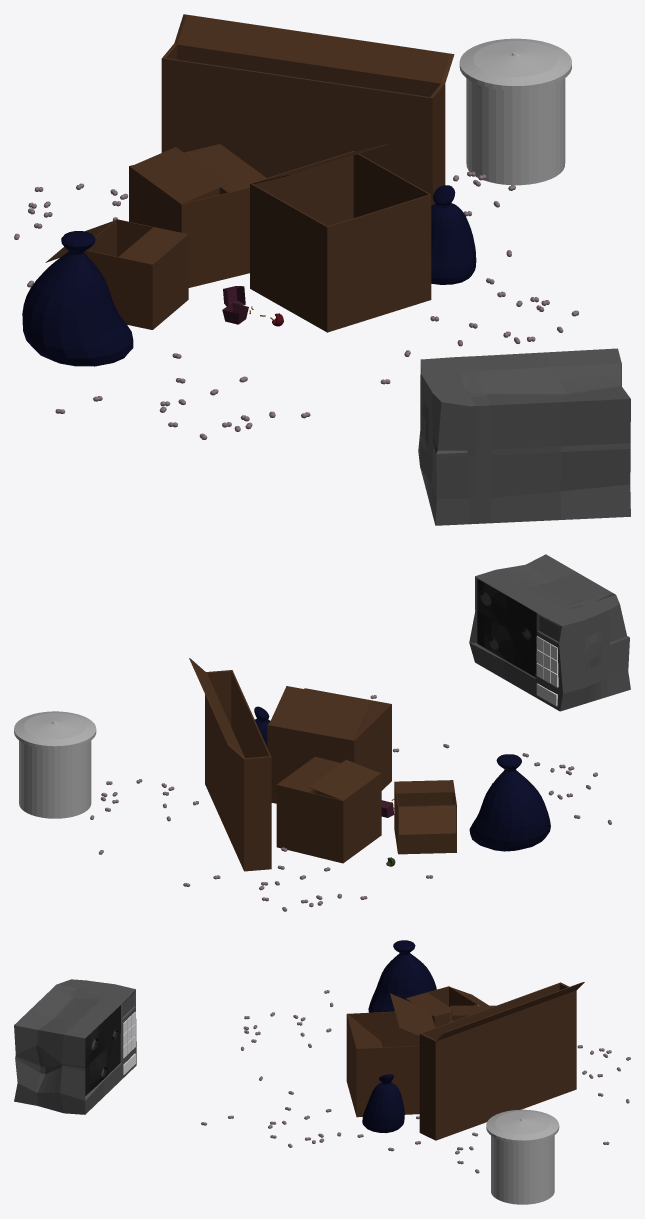
Rendered from Lixoa.fbx.
3 renders of one model, top to bottom at view 1: azimuth 30°, elevation 25°; view 2: azimuth 150°, elevation 25°; view 3: azimuth 270°, elevation 25°, orthographic. The views are drawn at different scales.
Parts seen in each view (by area): view 1: Cube.005, Cube.009, Cube.002, Cylinder, Cube, Cube.008, Cube.001, Cube.006, Plane.005; view 2: Cube.009, Cube.005, Cube, Cube.002, Cylinder, Cube.008, Cube.001, Plane.006; view 3: Cube.005, Cube.009, Cube.002, Cylinder, Cube.008, Plane.006, Cube.006, Cube.001, Cube.
Part boxes in pixels (bbox=[...]): Cube.005: bbox=[161, 14, 454, 205]; Cube.009: bbox=[418, 348, 630, 525]; Cube.002: bbox=[250, 143, 431, 332]; Cylinder: bbox=[459, 38, 571, 185]; Cube: bbox=[129, 144, 266, 287]; Cube.008: bbox=[22, 231, 133, 366]; Cube.001: bbox=[45, 219, 188, 329]; Cube.006: bbox=[431, 185, 476, 284]; Plane.005: bbox=[55, 353, 390, 439]; Cube.009: bbox=[469, 554, 630, 711]; Cube.005: bbox=[189, 658, 271, 871]; Cube: bbox=[276, 756, 381, 863]; Cube.002: bbox=[267, 686, 391, 803]; Cylinder: bbox=[14, 711, 96, 818]; Cube.008: bbox=[469, 754, 550, 851]; Cube.001: bbox=[394, 780, 456, 854]; Plane.006: bbox=[477, 578, 536, 677]; Cube.005: bbox=[419, 982, 584, 1140]; Cube.009: bbox=[14, 979, 136, 1114]; Cube.002: bbox=[346, 993, 435, 1117]; Cylinder: bbox=[486, 1109, 559, 1204]; Cube.008: bbox=[368, 940, 436, 1012]; Plane.006: bbox=[85, 1005, 120, 1095]; Cube.006: bbox=[362, 1074, 404, 1132]; Cube.001: bbox=[405, 986, 488, 1027]; Cube: bbox=[450, 1005, 495, 1022].
Bounding box in the file's own units: 1267 × 339 × 1586.
